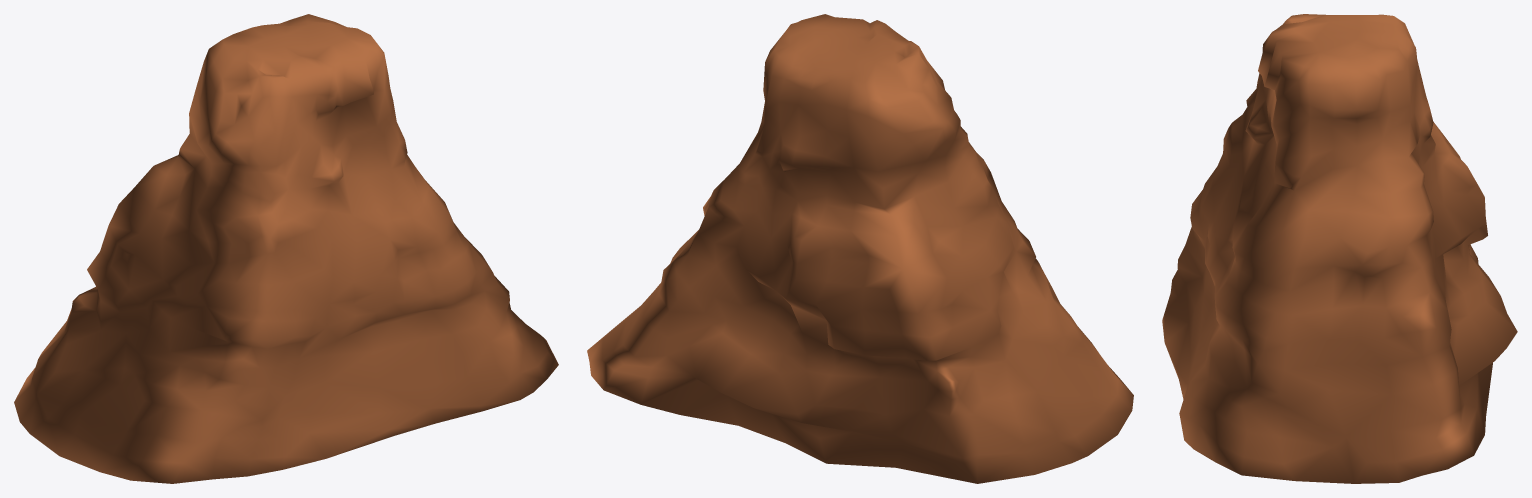
Rendered from MSH_Rocks_Cliff_12_d.FBX.
The picture shows the model from 3 angles, left to right: view 1: azimuth 30°, elevation 25°; view 2: azimuth 150°, elevation 25°; view 3: azimuth 270°, elevation 25°; orthographic projection.
Visible parts, largest first — view 1: MESH_LOD0; view 2: MESH_LOD0; view 3: MESH_LOD0.
Part boxes in pixels (bbox=[...]): MESH_LOD0: bbox=[14, 14, 558, 483]; MESH_LOD0: bbox=[587, 14, 1133, 483]; MESH_LOD0: bbox=[1162, 14, 1517, 483].
Size of what is drawn, in the model's own units: 366 by 253 by 233.
